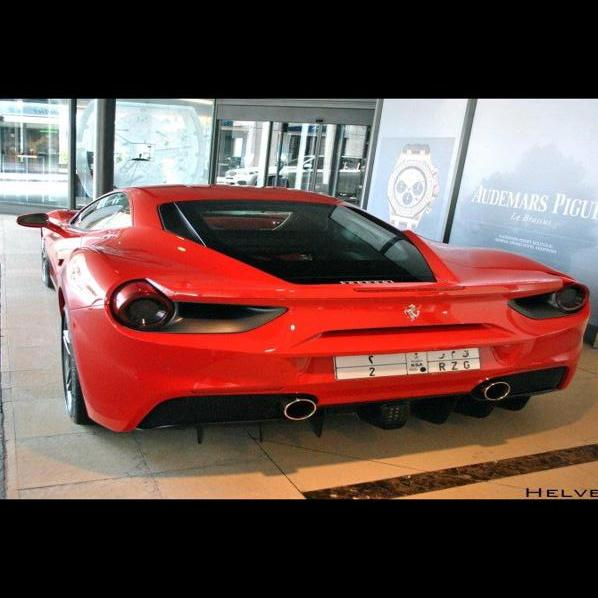numberplate: (334, 347, 487, 377)
